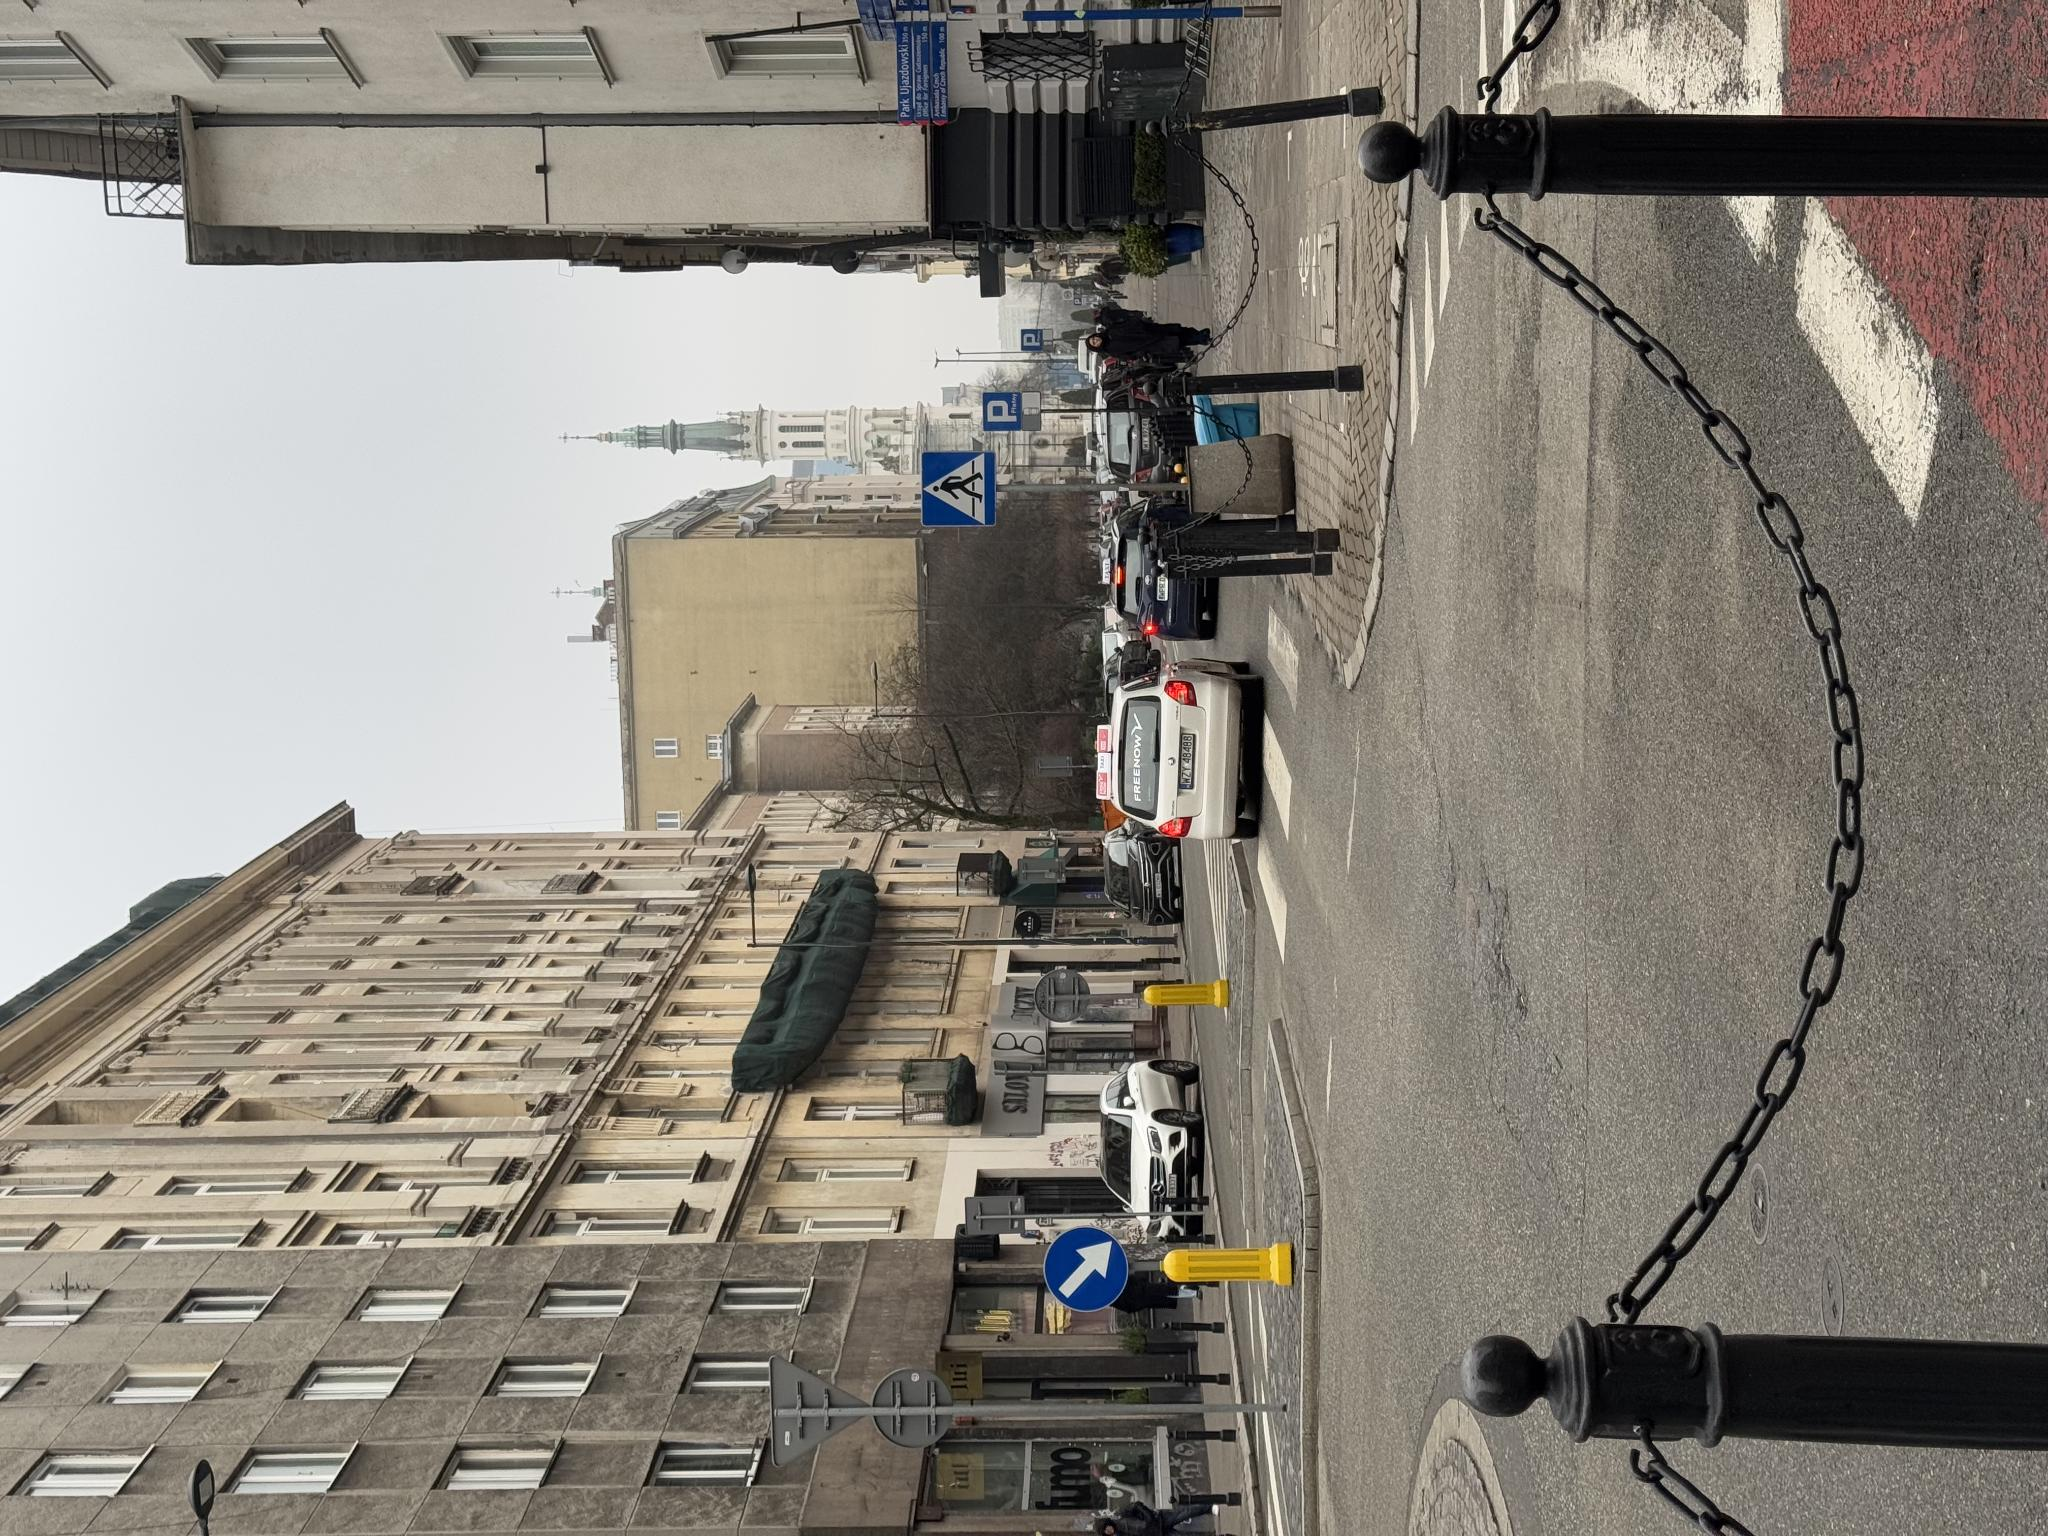information: (1009, 921, 1085, 997), (1106, 983, 1145, 1021), (1185, 1021, 1206, 1041)
mandatory: (224, 1042, 311, 1129)
other: (1105, 1021, 1145, 1041)
